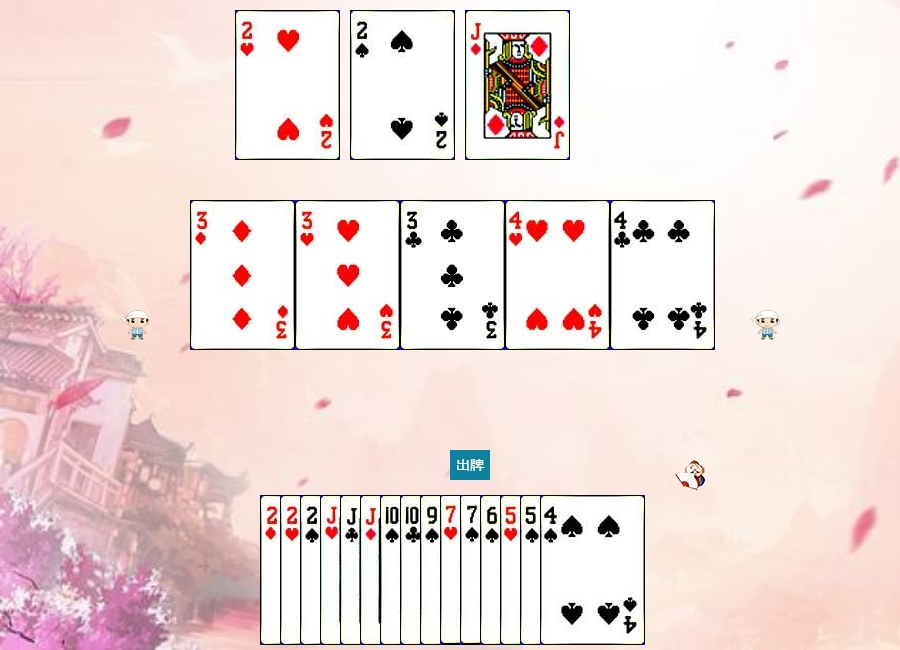10~2: (400, 495, 505, 645)
10~4: (380, 495, 485, 645)
11~1: (465, 10, 570, 160), (360, 495, 465, 645)
11~2: (340, 495, 445, 645)
11~3: (320, 495, 425, 645)
15~1: (260, 495, 365, 645)
15~3: (235, 10, 340, 160), (280, 495, 385, 645)
15~4: (350, 10, 455, 160), (300, 495, 405, 645)
3~1: (190, 200, 295, 350)
3~2: (400, 200, 505, 350)
3~3: (295, 200, 400, 350)
4~2: (610, 200, 715, 350)
4~3: (505, 200, 610, 350)
4~4: (540, 495, 645, 645)
5~3: (500, 495, 605, 645)
5~4: (520, 495, 625, 645)
6~4: (480, 495, 585, 645)
7~3: (440, 495, 545, 645)
7~4: (460, 495, 565, 645)
9~4: (420, 495, 525, 645)
